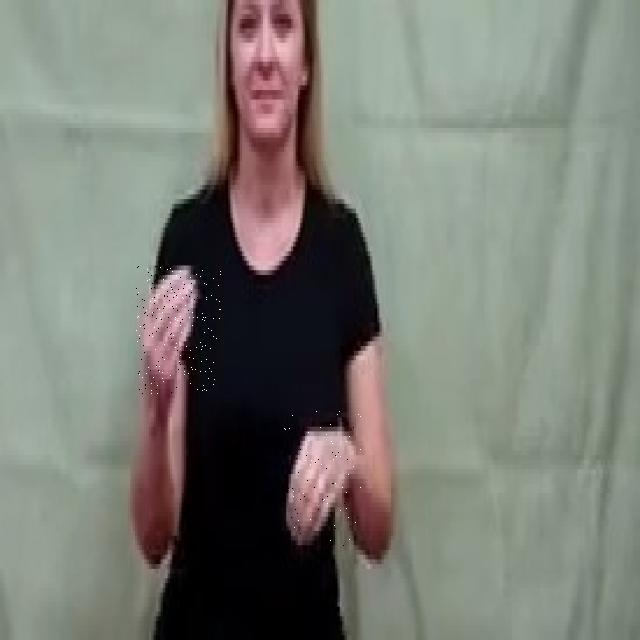ingredients: (282, 411, 362, 549), (136, 266, 221, 394)
